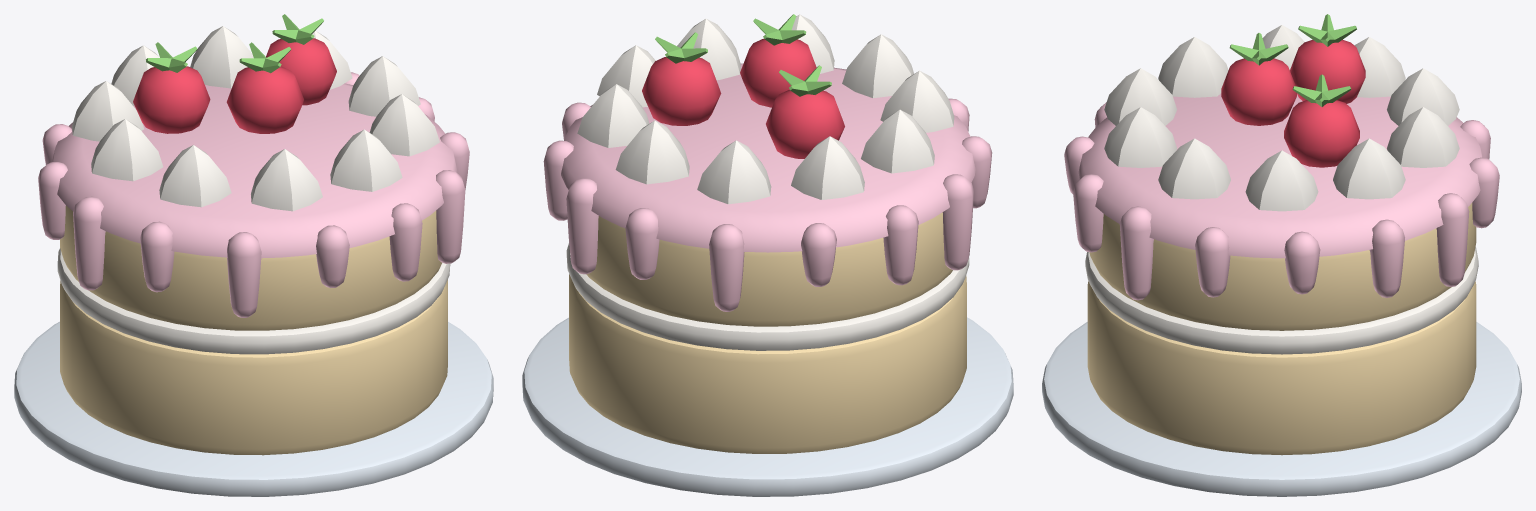
File: cake.glb
3 views of the same model, side by side, from view 1: azimuth 30°, elevation 25°; view 2: azimuth 150°, elevation 25°; view 3: azimuth 270°, elevation 25° (orthographic). The views are drawn at different scales.
Visible parts, largest first — view 1: cake; view 2: cake; view 3: cake.
Boxes of the visible parts, left/top/right/bottom form: cake: left=14, top=14, right=493, bottom=496; cake: left=522, top=14, right=1013, bottom=496; cake: left=1042, top=14, right=1521, bottom=496.
Bounding box in the file's own units: 0.42 × 0.3418 × 0.42.
